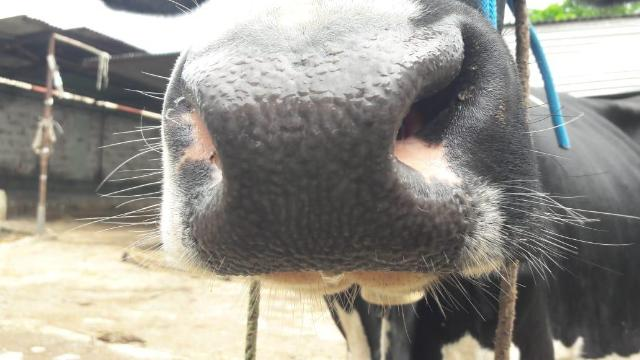Muzzle: (208, 58, 388, 260)
